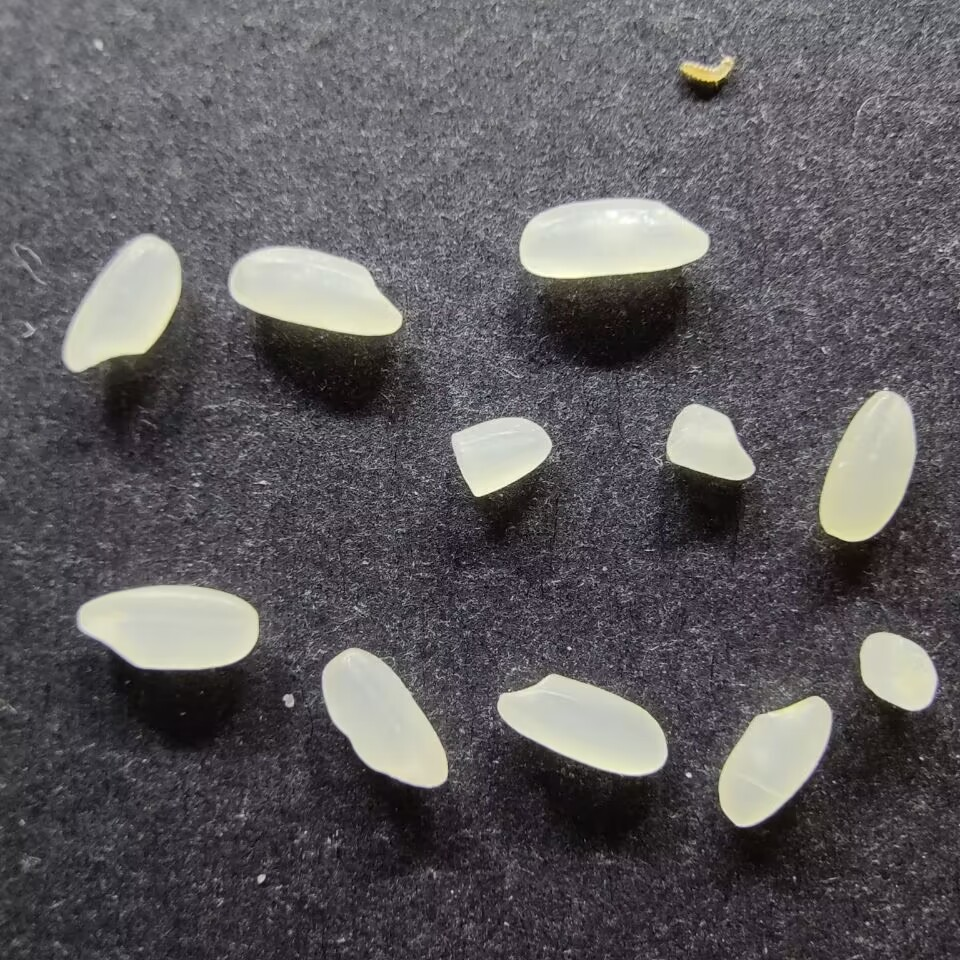broken: (447, 415, 553, 499), (663, 399, 757, 485), (858, 626, 943, 713)
others: (676, 49, 737, 88)
rice: (494, 670, 670, 779), (318, 644, 449, 790), (59, 232, 184, 378), (73, 581, 263, 673), (226, 244, 404, 338), (516, 194, 710, 280), (716, 691, 832, 830), (816, 386, 918, 544)
